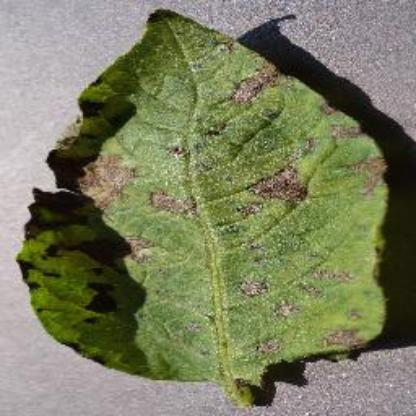Early-Blight: (15, 6, 416, 410)
